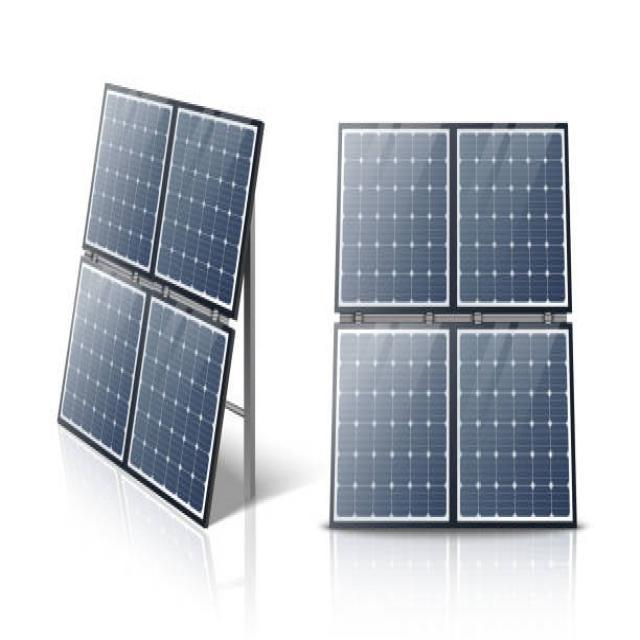no faulty: (334, 123, 577, 530), (56, 89, 265, 526)
